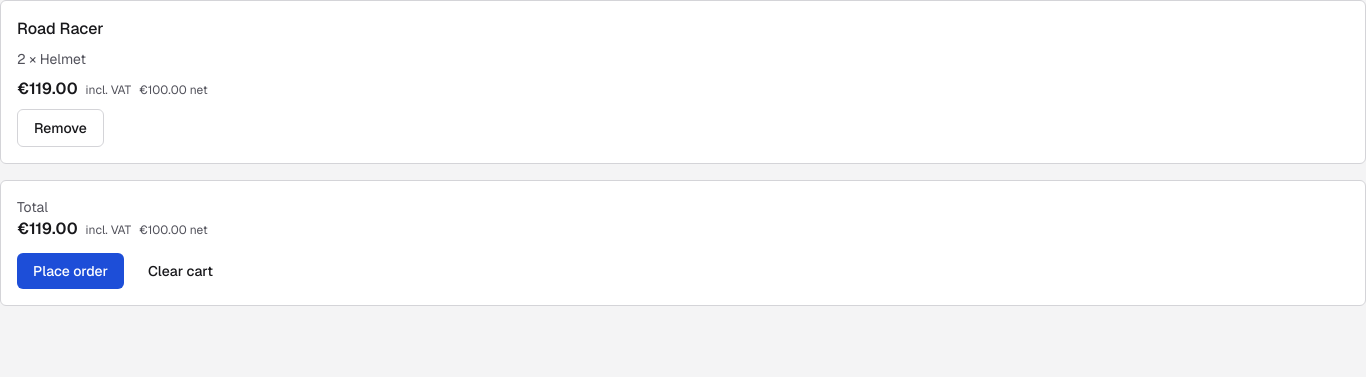
Test: checkout result › offers a retry when the stock service is unavailable, with the same key
The width and height of the screenshot is (1366, 377).
Later steps or results of the test are not shown.
What coordinates should you click on to do the following:
click the button "Place order"
I would click on:
 (70, 271)
Its box is [17, 253, 124, 289].
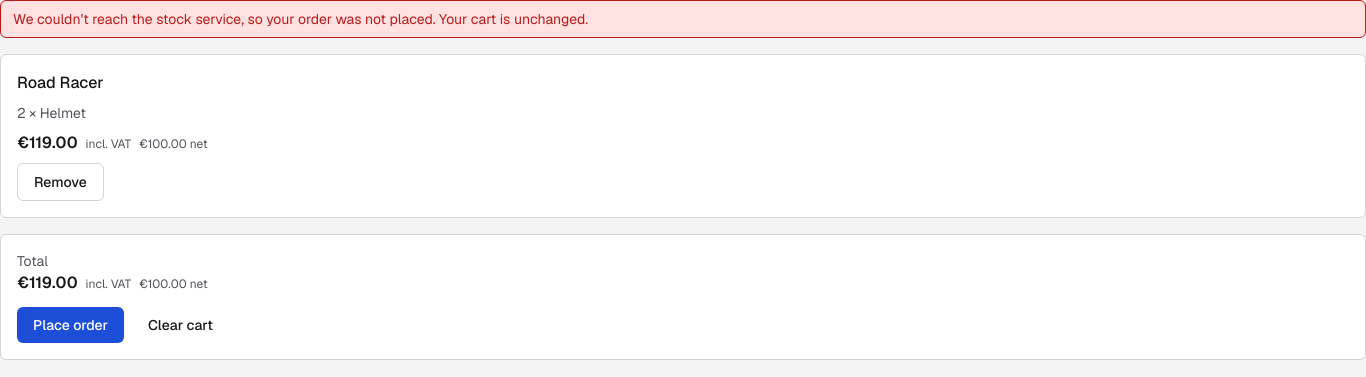
expect the button "Place order" is enabled: met, box [17, 307, 124, 343]
expect the text "couldn't reach the stock service" is shown: met, box [13, 10, 588, 28]
